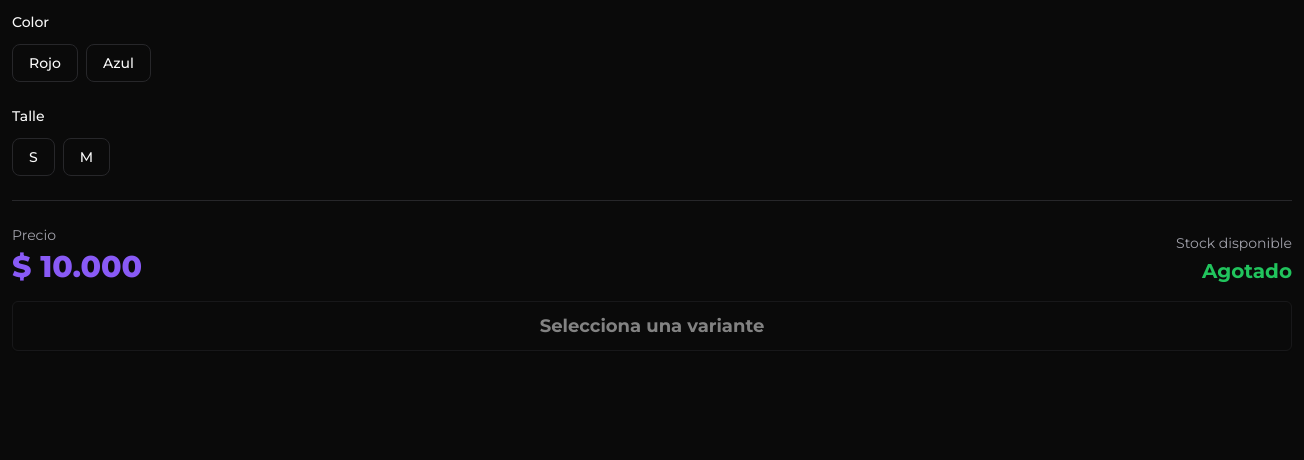
Test case: ProductVariantSelector › SKU display › should show SKU code when variant selected
Click the button "Rojo" at (45, 63), box x1=12 y1=44 x2=78 y2=82
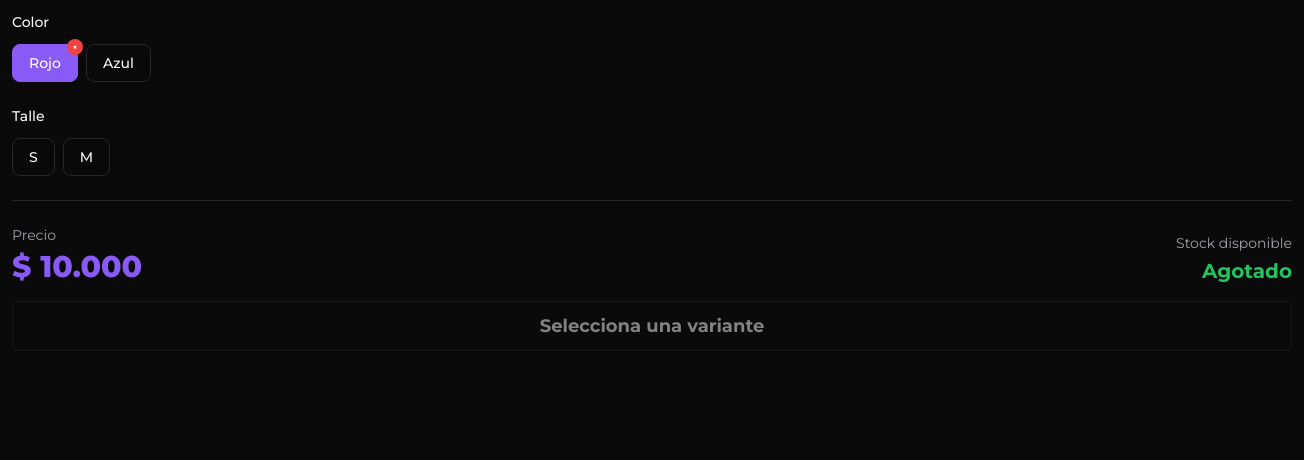
Click the button "S" at (33, 157), box x1=12 y1=138 x2=55 y2=176
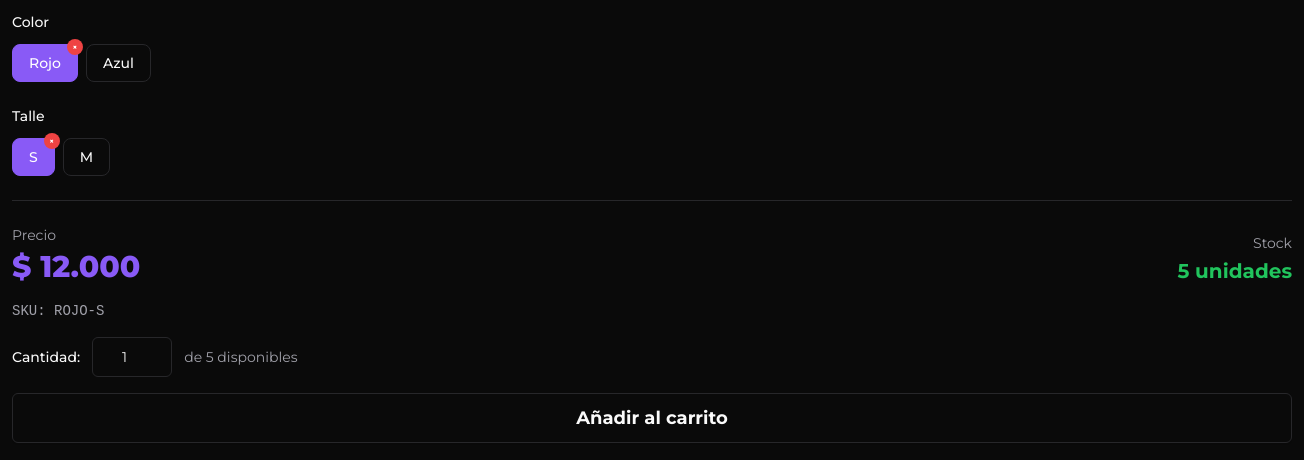
Expected: the text "SKU: ROJO-S" is shown, x1=12 y1=303 x2=104 y2=319
